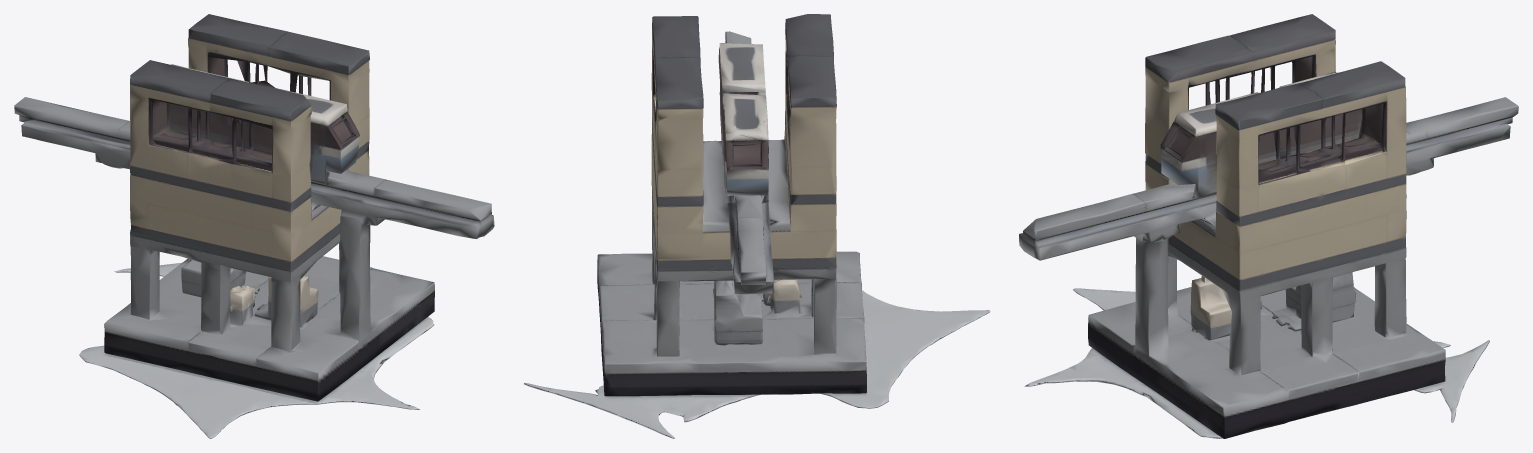
Rendered from kokura_st.glb.
3 views of the same model, side by side, from view 1: azimuth 30°, elevation 25°; view 2: azimuth 150°, elevation 25°; view 3: azimuth 270°, elevation 25° (orthographic). The views are drawn at different scales.
Visible parts, largest first — view 1: tripo_node_68989520-3452-4163-bf1f-969a9201c659; view 2: tripo_node_68989520-3452-4163-bf1f-969a9201c659; view 3: tripo_node_68989520-3452-4163-bf1f-969a9201c659.
Part boxes in pixels (x1=…): tripo_node_68989520-3452-4163-bf1f-969a9201c659: x1=14, y1=14, x2=494, y2=438; tripo_node_68989520-3452-4163-bf1f-969a9201c659: x1=524, y1=14, x2=990, y2=438; tripo_node_68989520-3452-4163-bf1f-969a9201c659: x1=1019, y1=14, x2=1518, y2=438.
Bounding box in the file's own units: 0.6724 × 0.57 × 0.8794.
Materials: 1 (1 with a texture image).
